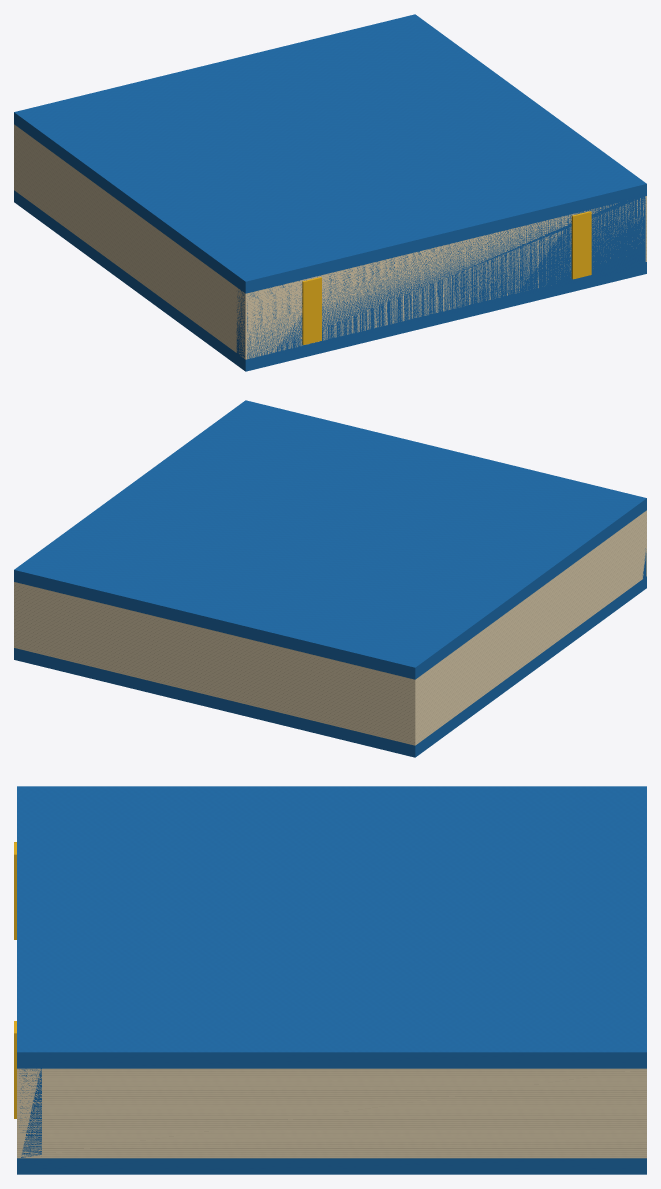
Rendered from book-slab-half.fbx.
3 renders of one model, top to bottom at view 1: azimuth 30°, elevation 25°; view 2: azimuth 150°, elevation 25°; view 3: azimuth 270°, elevation 25°, orthographic. The views are drawn at different scales.
Visible parts, largest first — view 1: book-slab-half; view 2: book-slab-half; view 3: book-slab-half.
Part boxes in pixels (x1,y1,x2,y2): book-slab-half: [14, 14, 646, 371]; book-slab-half: [14, 400, 646, 757]; book-slab-half: [14, 786, 646, 1174].
Size of the model in its own units: 1400 by 300 by 1407.
1 material, 1 textured.
